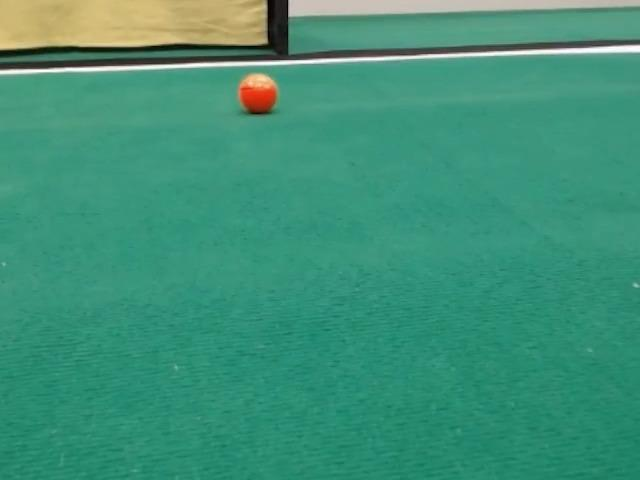Ball: (239, 73, 278, 113)
